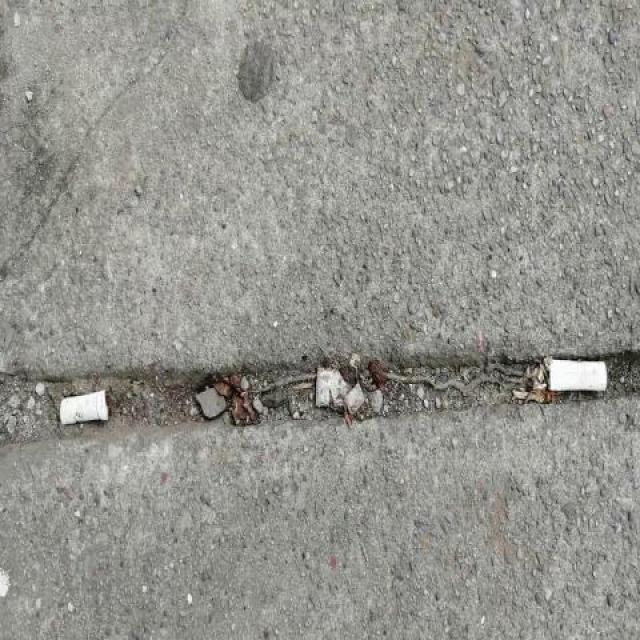non-organic waste: (544, 356, 612, 396), (58, 386, 115, 429)
